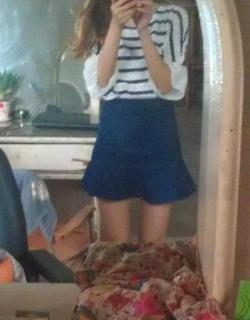long sleeve top: (81, 3, 190, 101)
skirt: (81, 97, 198, 205)
